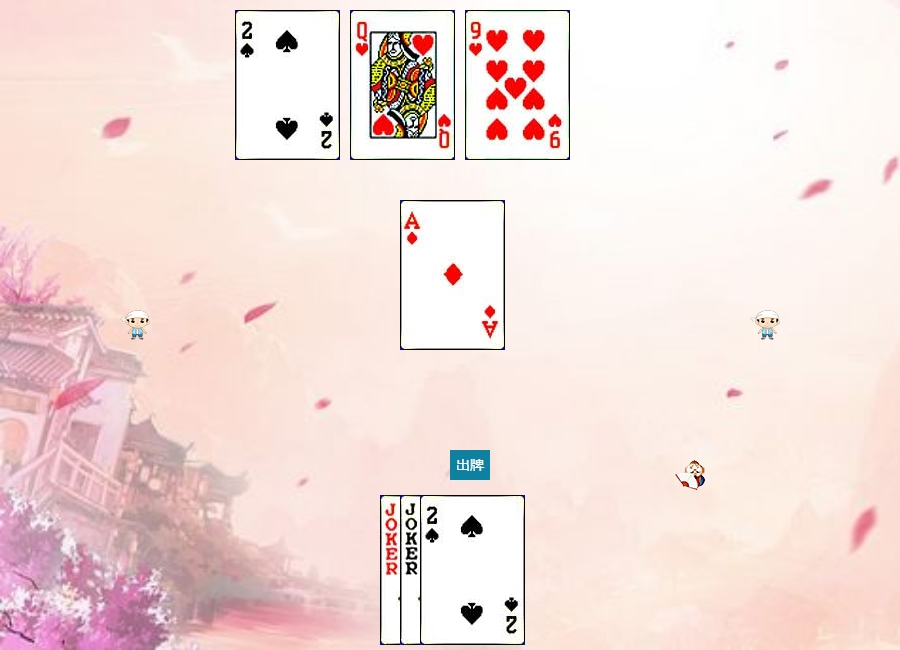12~3: (350, 10, 455, 160)
14~1: (400, 200, 505, 350)
15~4: (235, 10, 340, 160), (420, 495, 525, 645)
17~3: (400, 495, 505, 645)
18~4: (380, 495, 485, 645)
9~3: (465, 10, 570, 160)
